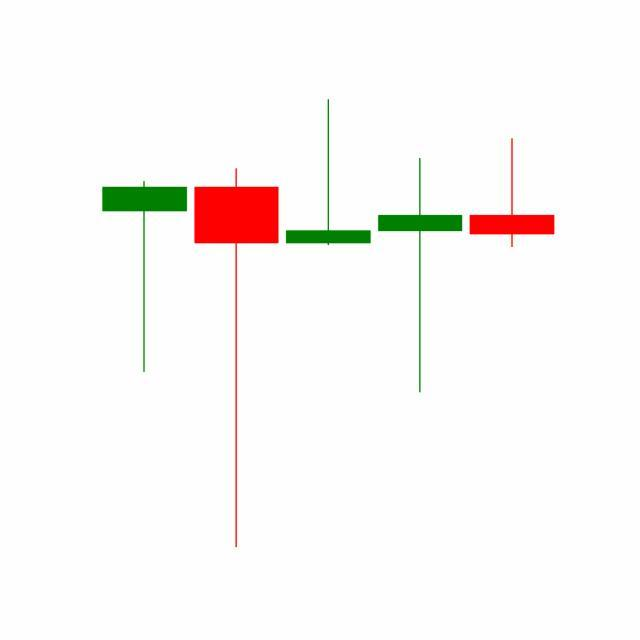Spinning Top: (374, 156, 468, 396)
